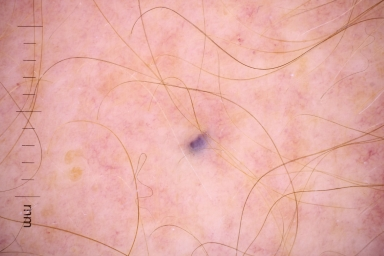melanoma: (145, 95, 246, 171)
